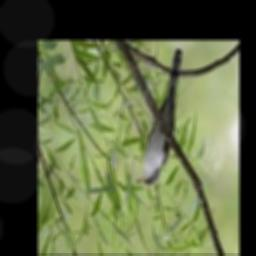Cuckoo: (136, 50, 183, 185)
